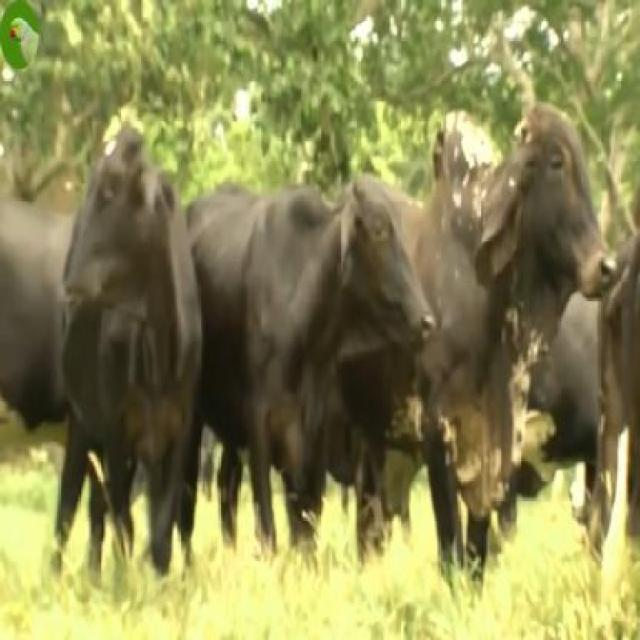Cow: (62, 120, 200, 588)
